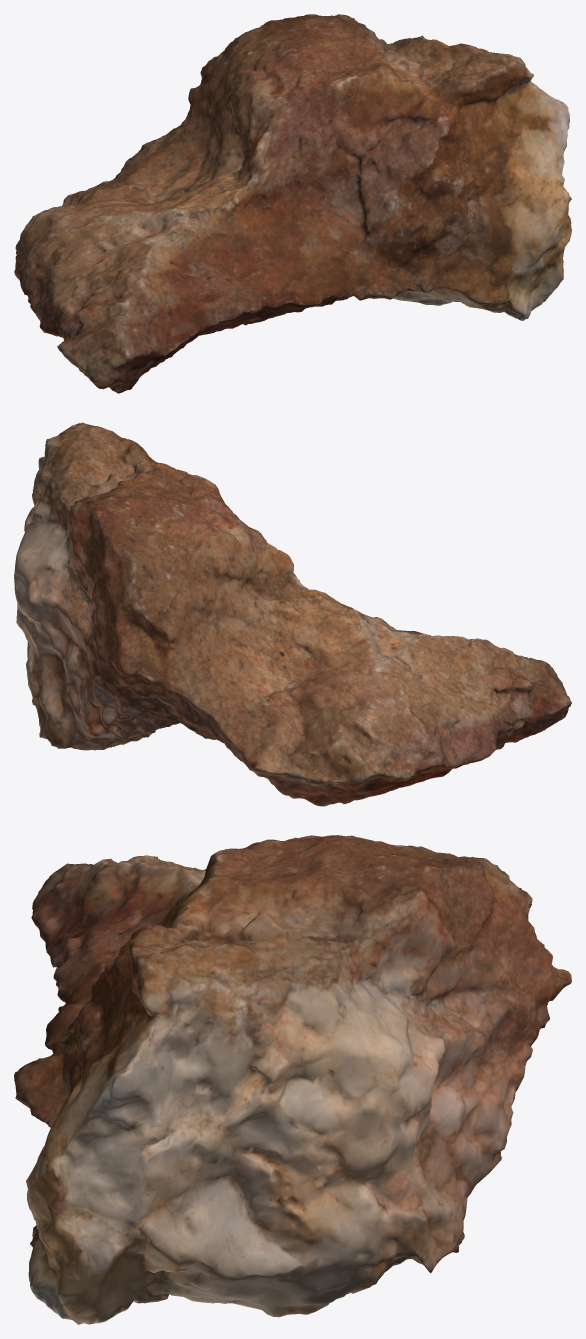
Rendered from stone_01.gltf.
The picture shows the model from 3 angles, top to bottom: view 1: azimuth 30°, elevation 25°; view 2: azimuth 150°, elevation 25°; view 3: azimuth 270°, elevation 25°; orthographic projection. The views are drawn at different scales.
Visible parts, largest first — view 1: stone_01; view 2: stone_01; view 3: stone_01.
Boxes of the visible parts, <box> form: stone_01: <box>14,14,571,393</box>; stone_01: <box>14,422,571,806</box>; stone_01: <box>14,835,571,1324</box>.
Size of the model in its own units: 0.1469 by 0.0718 by 0.0891.
1 material, 1 textured.
